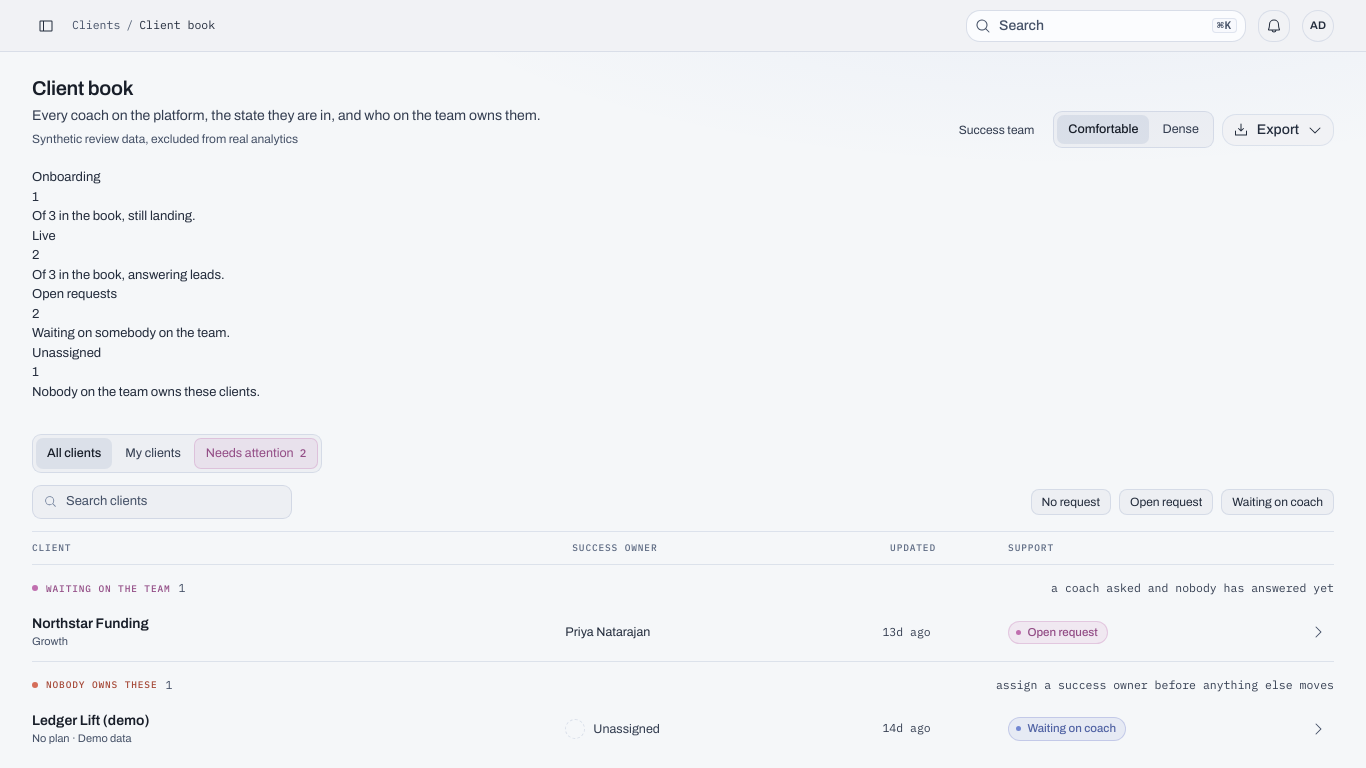
Scenario: SuccessClientBook surface › reads health per client on open and states each signal's freshness
Click the text "Northstar Funding": [90, 624] box [32,615,149,633]
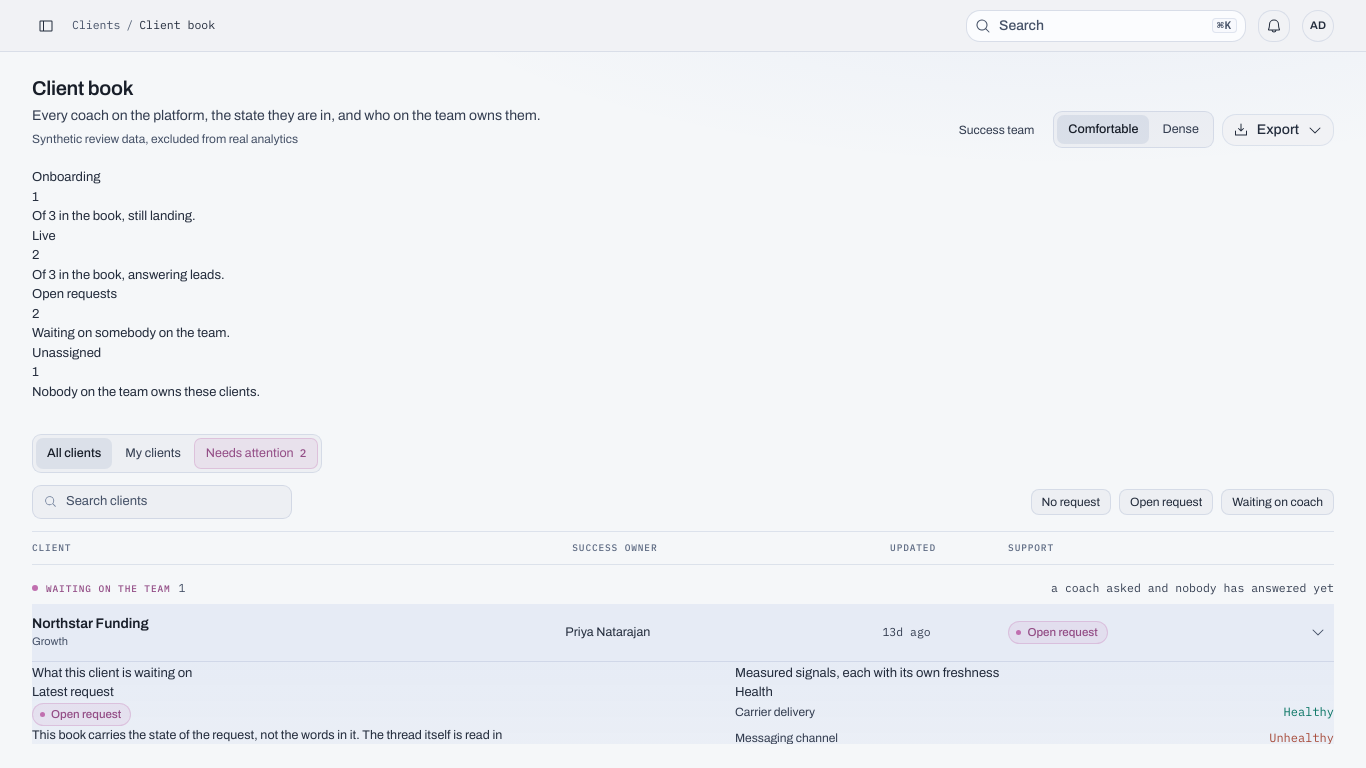
Result: the text "Unhealthy" is shown at [1269,729,1334,744]
